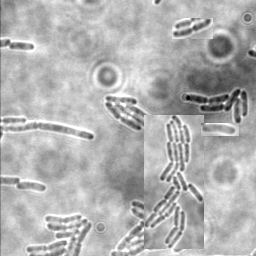Dividing: (1, 123, 95, 142), (172, 18, 213, 39), (8, 41, 35, 52)
Microcolony: (144, 115, 204, 249), (25, 212, 94, 255), (184, 89, 248, 126), (103, 96, 150, 132), (201, 123, 239, 136), (16, 182, 48, 193)
